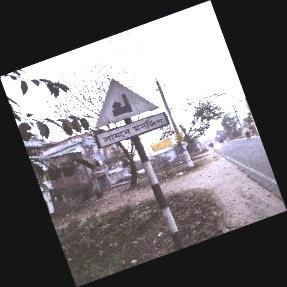Mosque in front: (94, 79, 169, 149)
